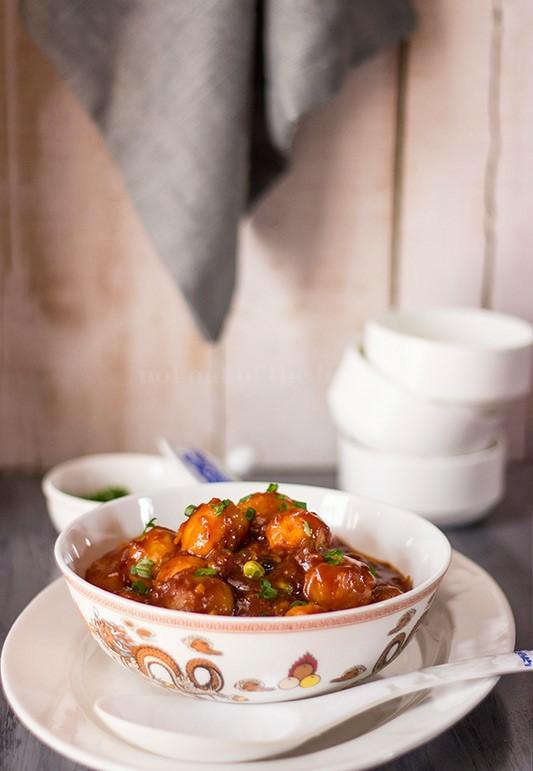DumAloo: (82, 480, 417, 617)
